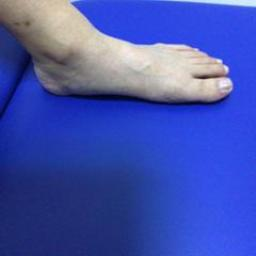Medial View -Left Foot-: (13, 3, 240, 121)
